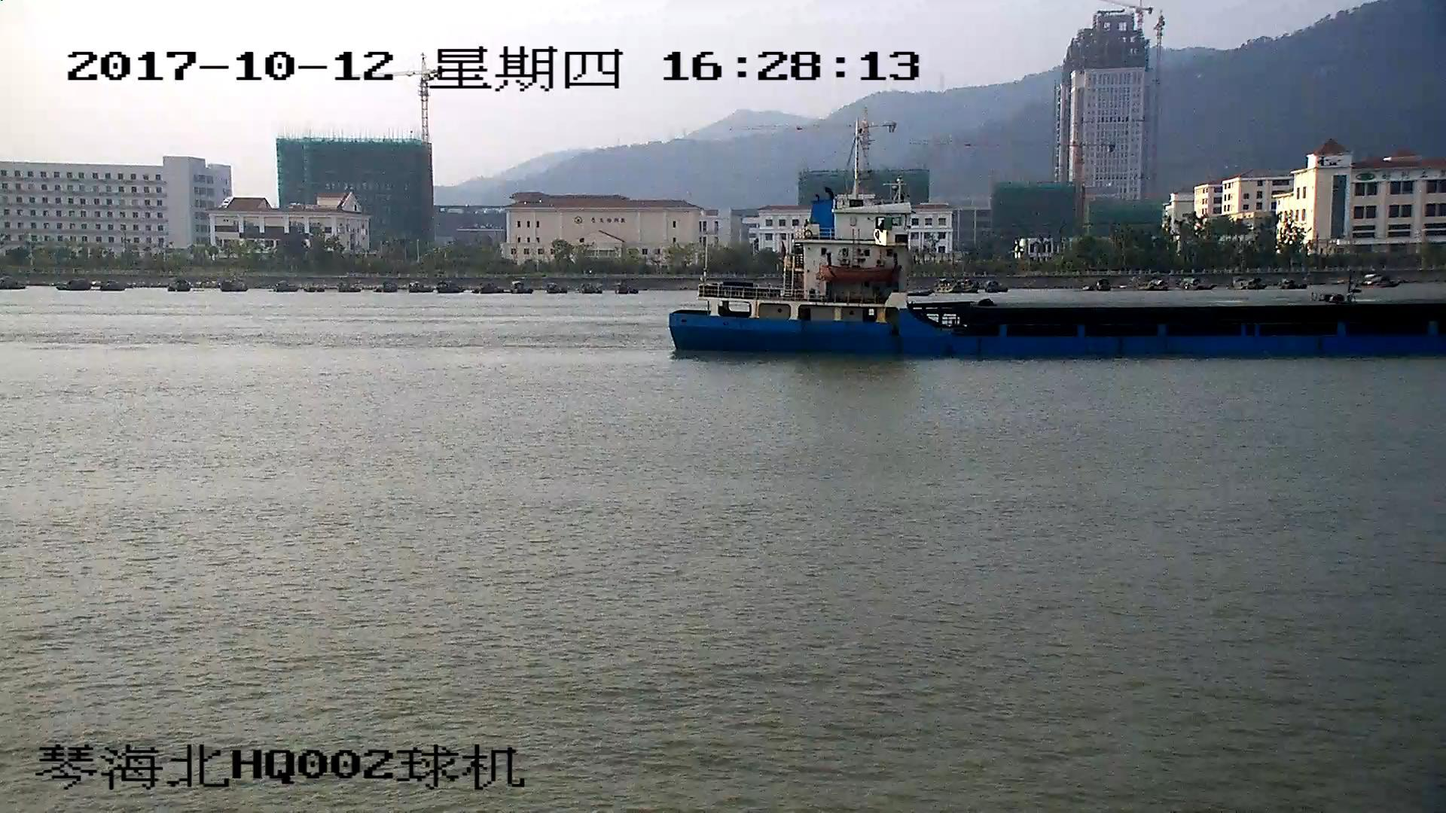general cargo ship: (664, 124, 1445, 360)
